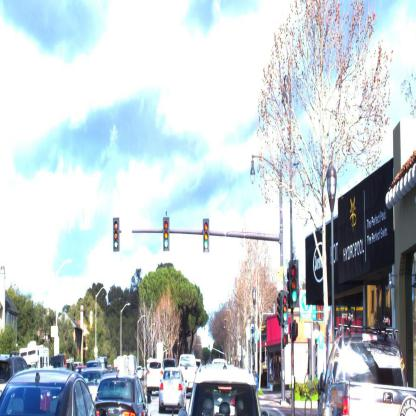car: (0, 368, 100, 415), (185, 370, 261, 415), (94, 374, 149, 416), (0, 356, 30, 406), (158, 369, 186, 414), (146, 358, 165, 398)
sign: (276, 264, 284, 292)
traffic light: (287, 258, 302, 310), (277, 288, 288, 327), (113, 219, 122, 252), (288, 319, 298, 342), (164, 218, 171, 250), (203, 220, 209, 253), (282, 331, 289, 347)
truck: (321, 306, 415, 416)
